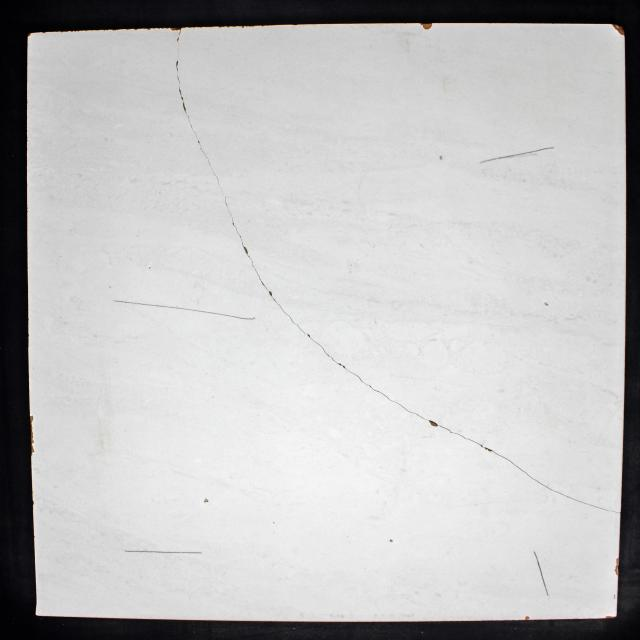edge-chipping: (29, 415, 36, 456), (611, 24, 625, 36), (614, 557, 619, 576), (420, 23, 433, 30), (606, 615, 618, 619), (170, 27, 180, 31), (524, 616, 530, 620), (32, 499, 34, 506), (28, 33, 31, 37), (134, 28, 138, 31), (146, 28, 151, 30)
hole: (428, 419, 438, 427), (203, 497, 209, 503), (544, 301, 549, 307), (389, 538, 394, 544), (439, 156, 443, 162), (268, 290, 272, 296), (307, 333, 310, 338), (148, 267, 151, 269), (109, 286, 111, 288)
line: (111, 298, 261, 322), (525, 472, 591, 507), (477, 145, 557, 165), (345, 368, 391, 401), (270, 295, 307, 335), (440, 423, 480, 447), (246, 255, 270, 293), (389, 398, 427, 421), (532, 550, 550, 598), (493, 450, 527, 474), (309, 337, 338, 365), (215, 174, 229, 210), (229, 212, 243, 245), (123, 549, 204, 554), (200, 145, 213, 173), (591, 504, 621, 515), (186, 114, 198, 140)
